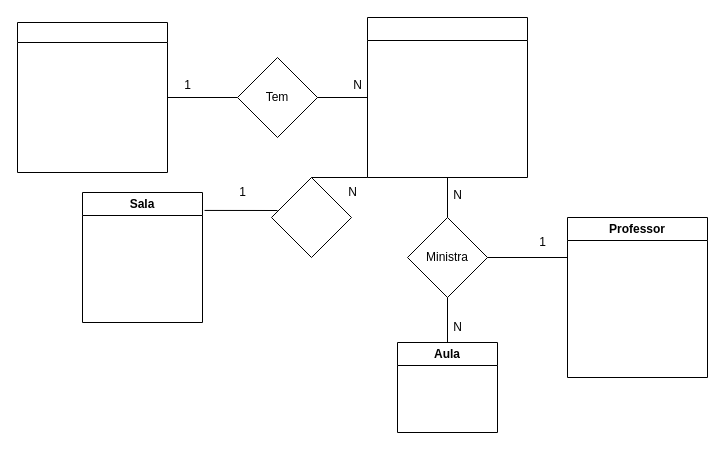
Some shapes in this 725 by 450 pixel diagram are drawn without their labels. Each missing label, with the centre of its shape:
"Escola" belongs at [92,97].
"Ter" belongs at [311,217].
"Turma" belongs at [447,97].
